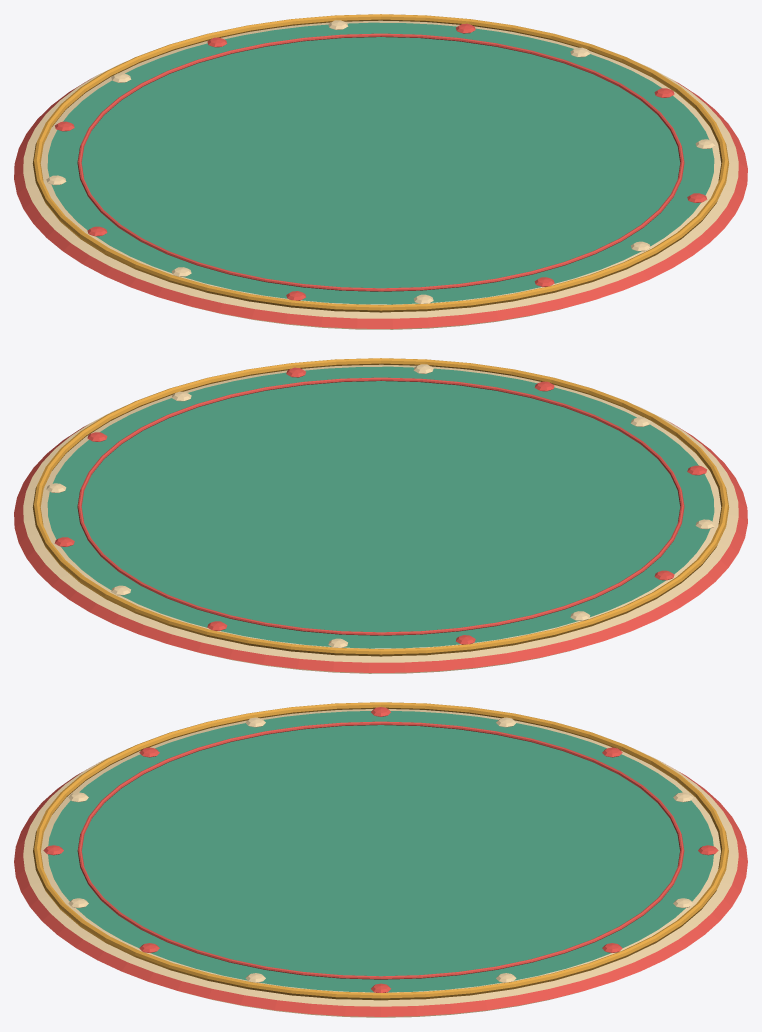
Rendered from ParkParkCarouselPlatform.obj.
The picture shows the model from 3 angles, top to bottom: view 1: azimuth 30°, elevation 25°; view 2: azimuth 150°, elevation 25°; view 3: azimuth 270°, elevation 25°; orthographic projection.
Parts seen in each view (by area): view 1: ParkParkCarouselPlatform; view 2: ParkParkCarouselPlatform; view 3: ParkParkCarouselPlatform.
Part boxes in pixels (x1=…): ParkParkCarouselPlatform: x1=14, y1=14, x2=747, y2=329; ParkParkCarouselPlatform: x1=14, y1=358, x2=747, y2=673; ParkParkCarouselPlatform: x1=14, y1=702, x2=747, y2=1017.
Size of the model in its own units: 24 by 0.69 by 24.
5 materials, 5 textured.
